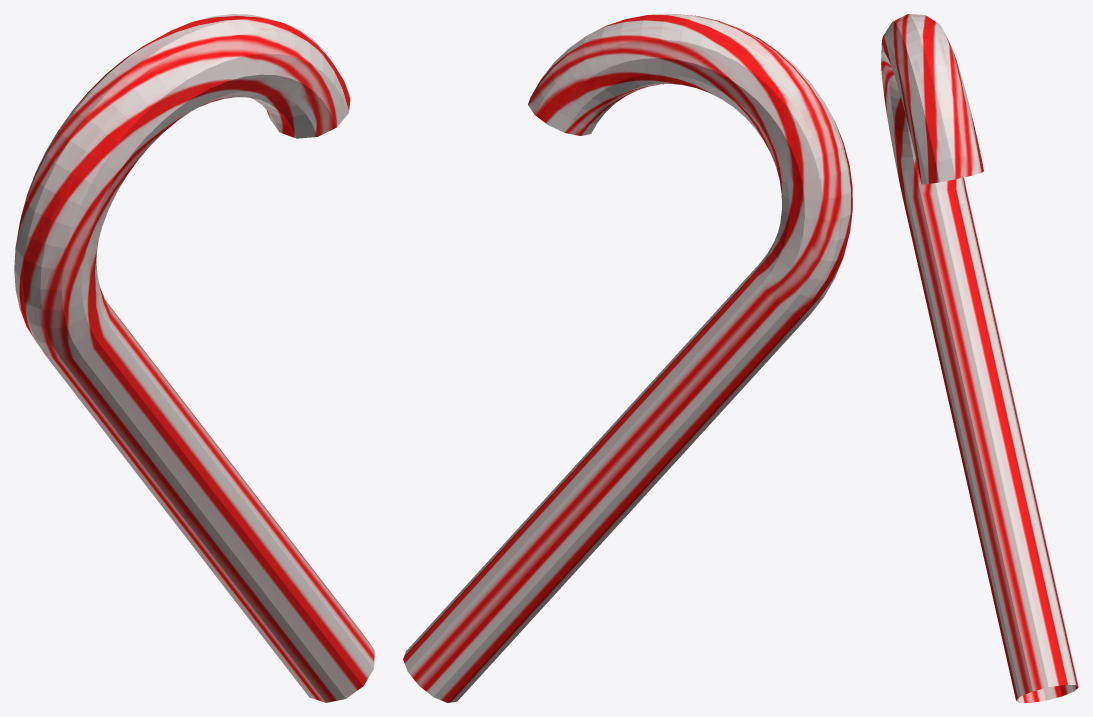
Rendered from zuckerstange_unten.gltf.
3 views of the same model, side by side, from view 1: azimuth 30°, elevation 25°; view 2: azimuth 150°, elevation 25°; view 3: azimuth 270°, elevation 25° (orthographic). The views are drawn at different scales.
Parts seen in each view (by area): view 1: zuckerstange_unten; view 2: zuckerstange_unten; view 3: zuckerstange_unten.
Part boxes in pixels (x1,y1,x2,y2): zuckerstange_unten: (14, 14, 374, 702); zuckerstange_unten: (403, 14, 852, 702); zuckerstange_unten: (881, 14, 1078, 702).
Bounding box in the file's own units: 1.48 × 2.57 × 0.7674.
1 material, 1 textured.
